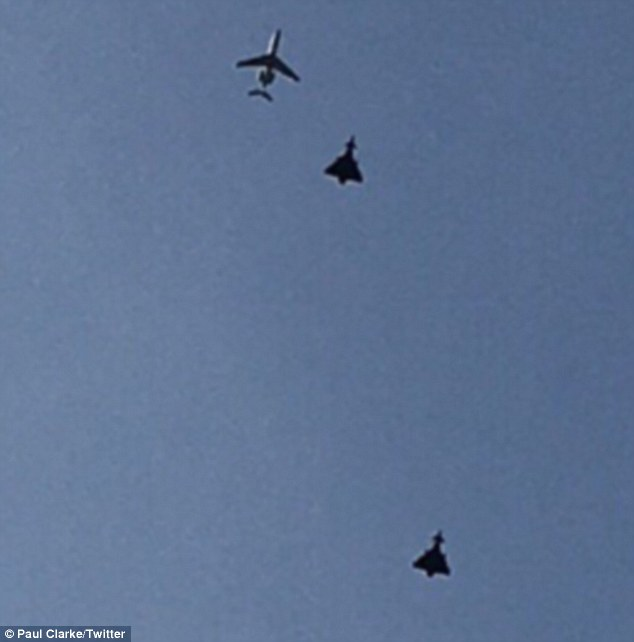plane: (234, 29, 300, 103), (323, 132, 365, 187), (412, 528, 451, 579)
